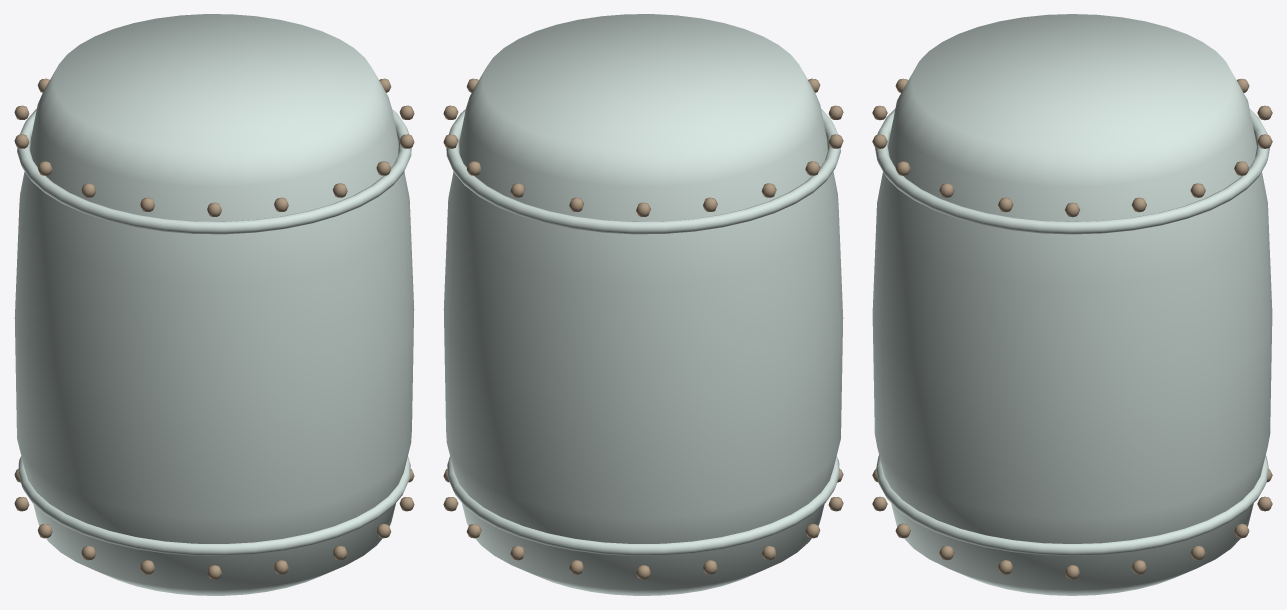
The model's file is sg_stool.glb.
3 renders of one model, left to right at view 1: azimuth 30°, elevation 25°; view 2: azimuth 150°, elevation 25°; view 3: azimuth 270°, elevation 25°, orthographic.
Parts seen in each view (by area): view 1: drum, ring2, ring1, studs2, studs1; view 2: drum, ring2, ring1, studs2, studs1; view 3: drum, ring2, ring1, studs2, studs1.
Part boxes in pixels (x1=…): drum: x1=14, y1=14, x2=414, y2=595; ring2: x1=17, y1=108, x2=411, y2=234; ring1: x1=18, y1=456, x2=410, y2=555; studs2: x1=14, y1=78, x2=414, y2=216; studs1: x1=14, y1=469, x2=414, y2=579; drum: x1=443, y1=14, x2=843, y2=595; ring2: x1=446, y1=108, x2=840, y2=234; ring1: x1=447, y1=456, x2=839, y2=555; studs2: x1=443, y1=78, x2=843, y2=216; studs1: x1=443, y1=469, x2=843, y2=579; drum: x1=872, y1=14, x2=1272, y2=595; ring2: x1=875, y1=109, x2=1269, y2=234; ring1: x1=876, y1=455, x2=1268, y2=555; studs2: x1=872, y1=78, x2=1272, y2=217; studs1: x1=872, y1=469, x2=1272, y2=579.
Bounding box in the file's own units: 0.366 × 0.45 × 0.3607.
